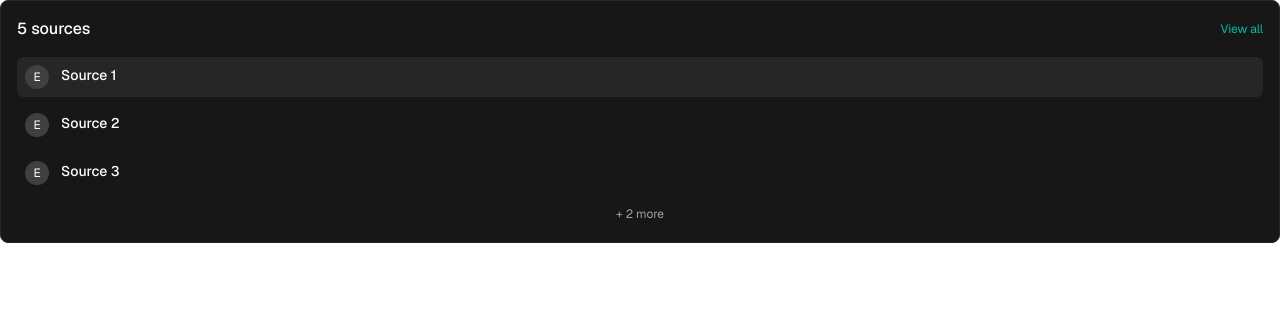
SourcesList › Expand/Collapse › shows all sources when "View all" is clicked
The image size is (1280, 331).
Click the button "View all" at (1242, 29), box x1=1220 y1=21 x2=1263 y2=37
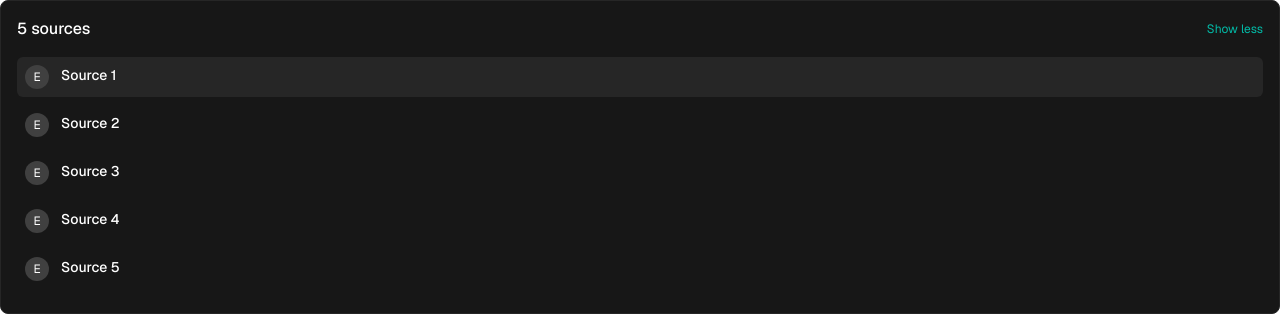
Expected: the text "Source 1" is shown 5 times, x1=61 y1=66 x2=116 y2=84; x1=61 y1=114 x2=120 y2=132; x1=61 y1=162 x2=120 y2=180; x1=61 y1=210 x2=120 y2=228; x1=61 y1=258 x2=120 y2=276
